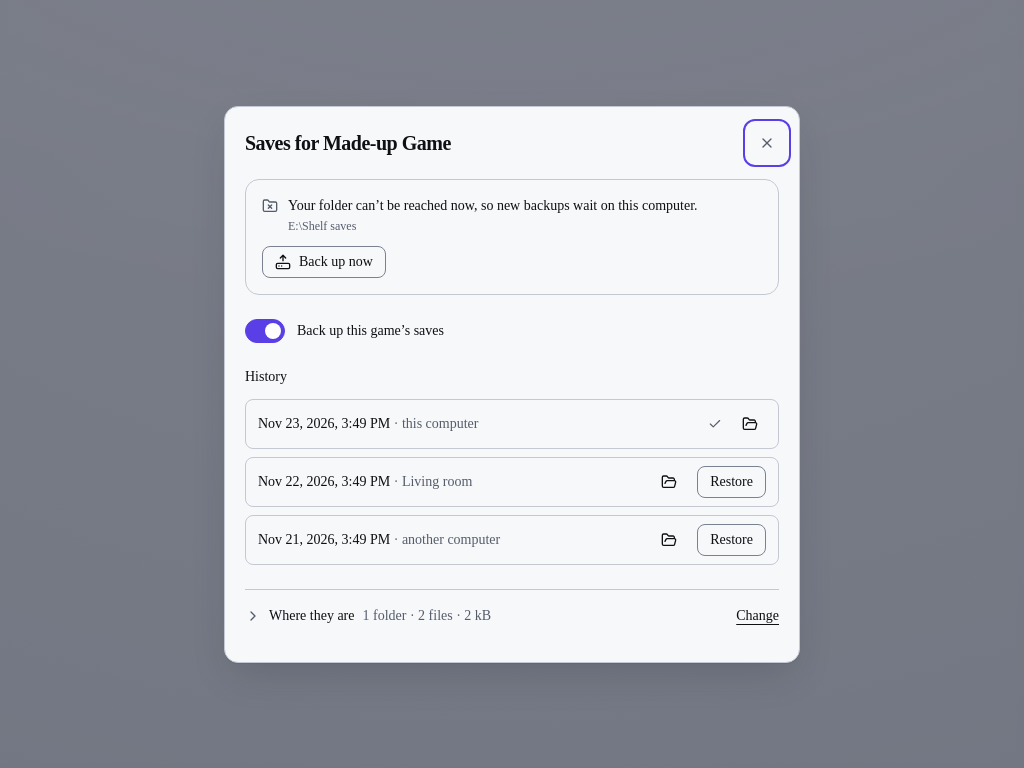
Test: a game’s saves › say when the folder can’t be reached and the backup waits here
Expected: the switch labelled "Back up this game’s saves" is shown, [245,318,285,342]
Expected: the text "Your folder can’t be reached now, so new backups wait on this computer." is shown, [288,196,698,216]
What coordinates should you click on to do the following:
click the button "Back up now"
I would click on:
 (324, 262)
Its box is [262,246,386,278].
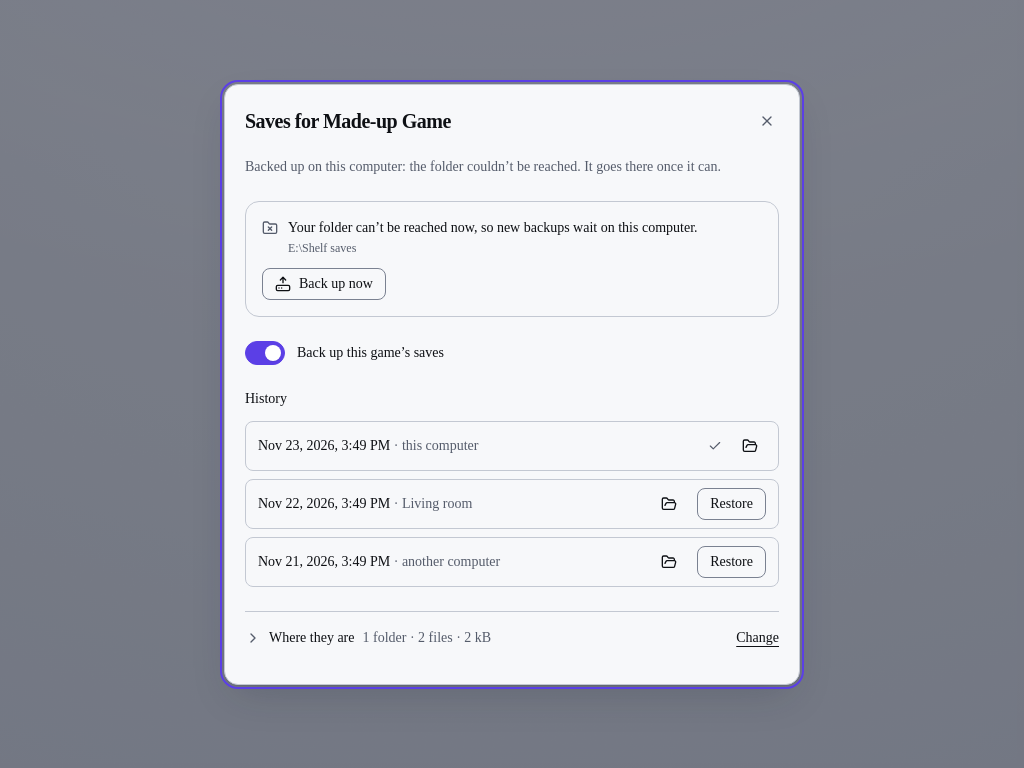
Result: the message shows "Backed up on this computer: the folder couldn’t be reached." at [245,158,721,174]
